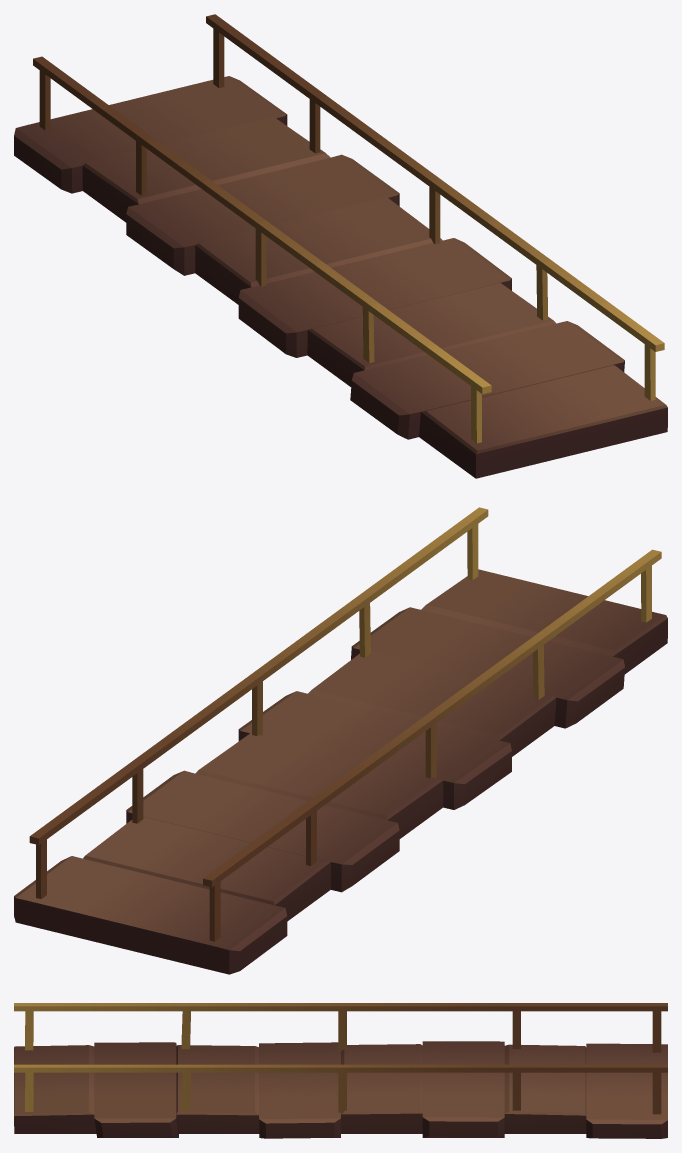
The model's file is Bridge (2).fbx.
3 renders of one model, top to bottom at view 1: azimuth 30°, elevation 25°; view 2: azimuth 150°, elevation 25°; view 3: azimuth 270°, elevation 25°, orthographic. The views are drawn at different scales.
Parts seen in each view (by area): view 1: pasted__Woddenbridge; view 2: pasted__Woddenbridge; view 3: pasted__Woddenbridge.
Part boxes in pixels (left/top/right/bottom): pasted__Woddenbridge: left=14, top=14, right=667, bottom=478; pasted__Woddenbridge: left=14, top=507, right=667, bottom=974; pasted__Woddenbridge: left=14, top=1003, right=667, bottom=1138.
Size of the model in its own units: 2.58 by 0.9781 by 8.89.
Materials: 1 (1 with a texture image).
